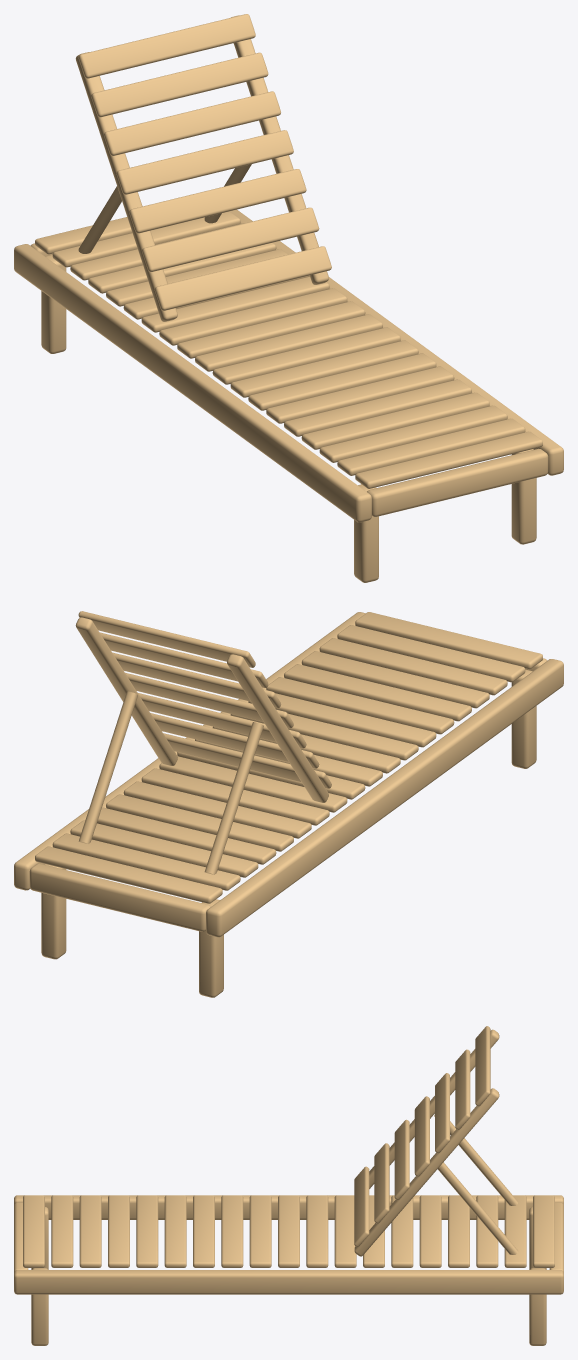
File: espreguicadeira_reclinavel_pinus.glb
3 renders of one model, top to bottom at view 1: azimuth 30°, elevation 25°; view 2: azimuth 150°, elevation 25°; view 3: azimuth 270°, elevation 25°, orthographic. The views are drawn at different scales.
Parts seen in each view (by area): view 1: espreguicadeira_reclinavel_pinus; view 2: espreguicadeira_reclinavel_pinus; view 3: espreguicadeira_reclinavel_pinus.
Boxes of the visible parts, bbox=[...] form: espreguicadeira_reclinavel_pinus: bbox=[14, 14, 563, 582]; espreguicadeira_reclinavel_pinus: bbox=[14, 611, 563, 997]; espreguicadeira_reclinavel_pinus: bbox=[14, 1026, 563, 1345].
Size of the model in its own units: 0.66 by 0.9713 by 1.9.
Materials: 1 (1 with a texture image).
